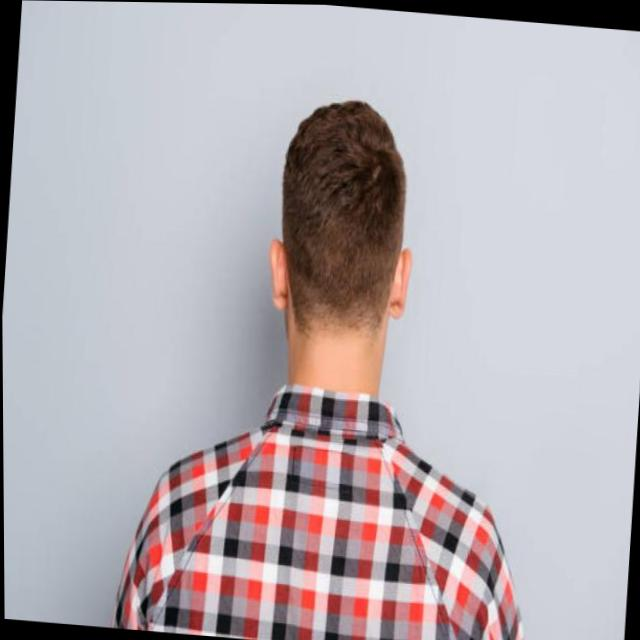no helmet: (257, 89, 430, 401)
